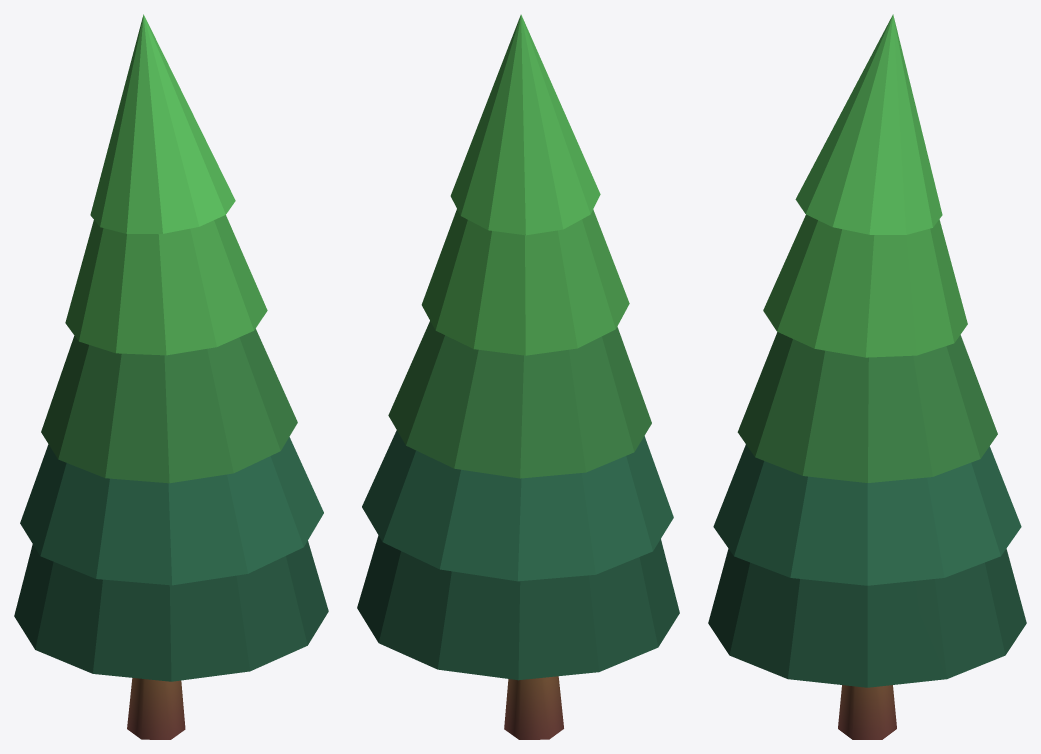
File: pine2.fbx
The picture shows the model from 3 angles, left to right: view 1: azimuth 30°, elevation 25°; view 2: azimuth 150°, elevation 25°; view 3: azimuth 270°, elevation 25°; orthographic projection. The views are drawn at different scales.
Visible parts, largest first — view 1: pine2.005; view 2: pine2.005; view 3: pine2.005.
Part boxes in pixels (<box>): pine2.005: <box>14,14,328,739</box>; pine2.005: <box>357,14,679,739</box>; pine2.005: <box>708,14,1026,739</box>.
Bounding box in the file's own units: 433 × 1071 × 433.
